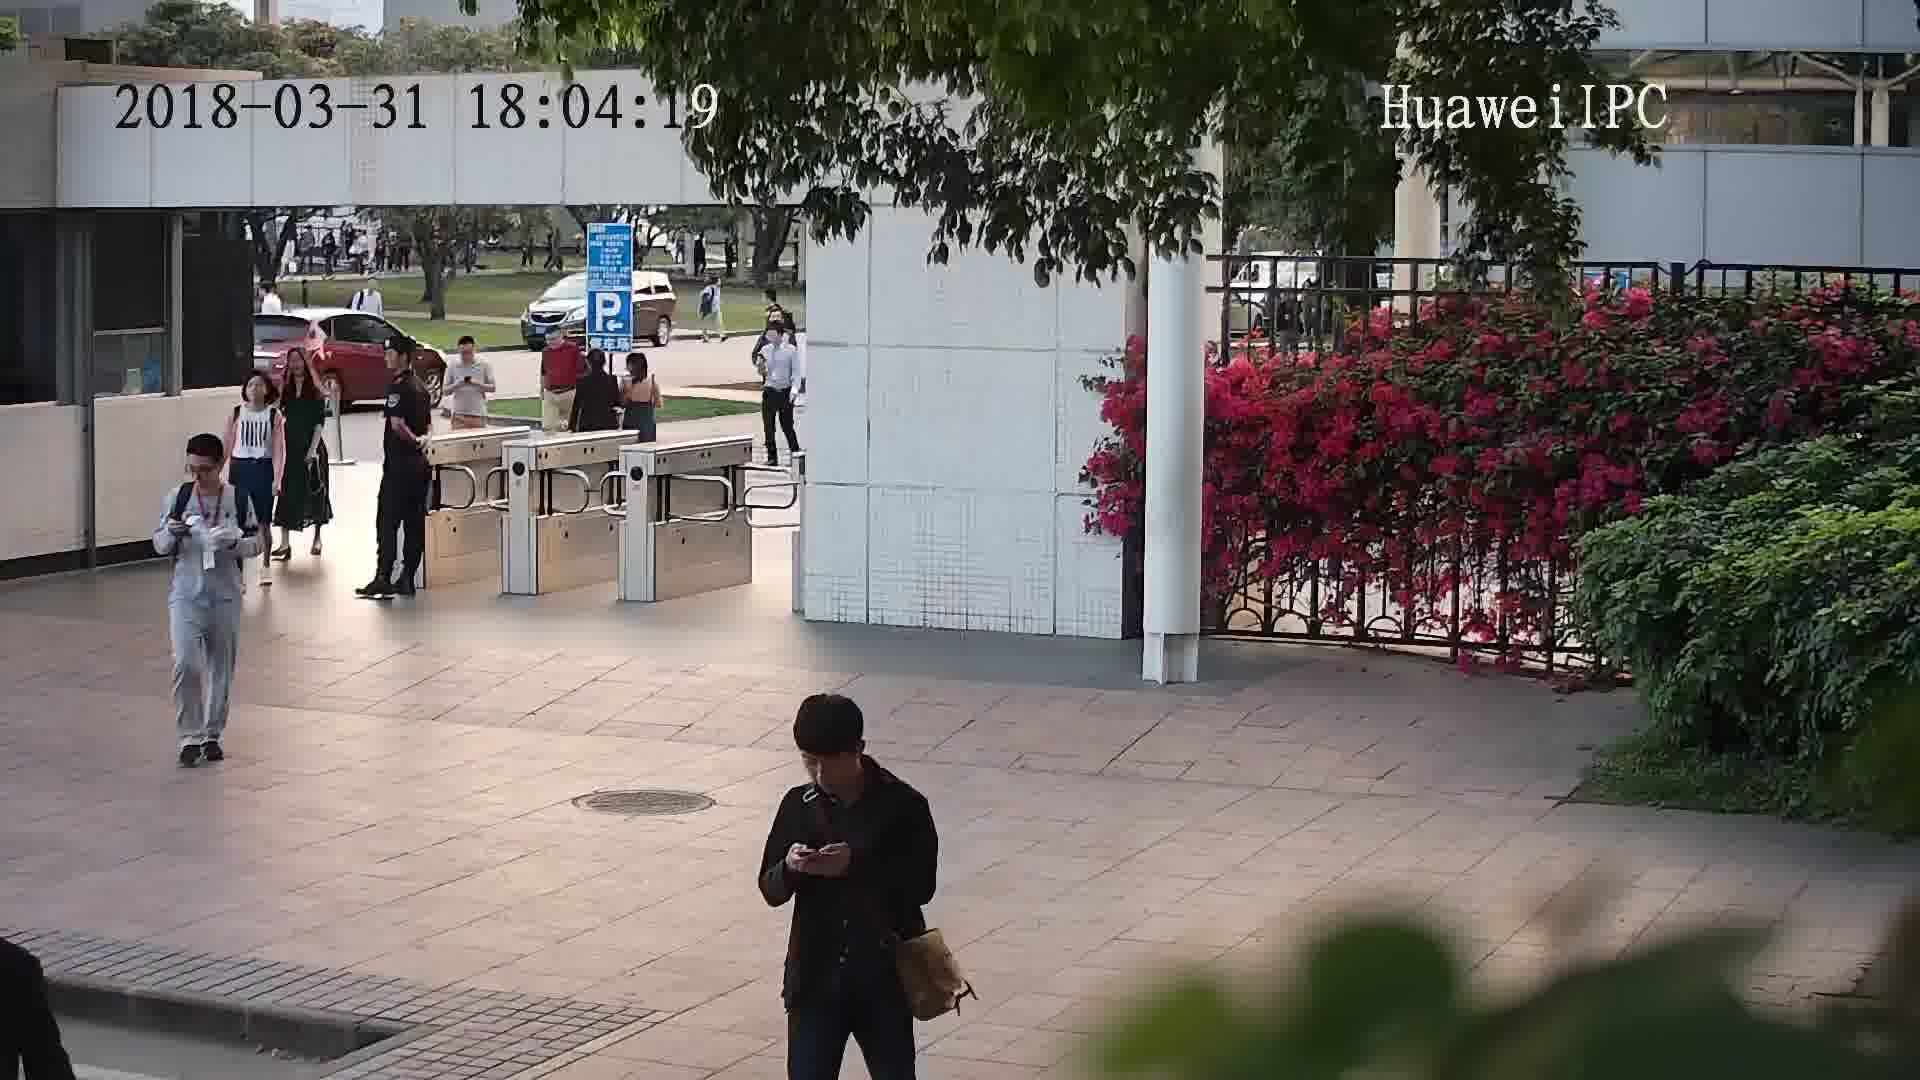face: (798, 741, 856, 799), (182, 448, 219, 492)
person: (778, 692, 928, 833), (173, 430, 253, 508), (275, 348, 324, 410), (230, 369, 280, 426), (383, 336, 427, 398), (446, 333, 491, 379), (539, 322, 585, 362), (576, 347, 618, 388), (762, 322, 799, 355), (623, 350, 657, 384), (350, 275, 383, 306), (703, 271, 724, 292)
